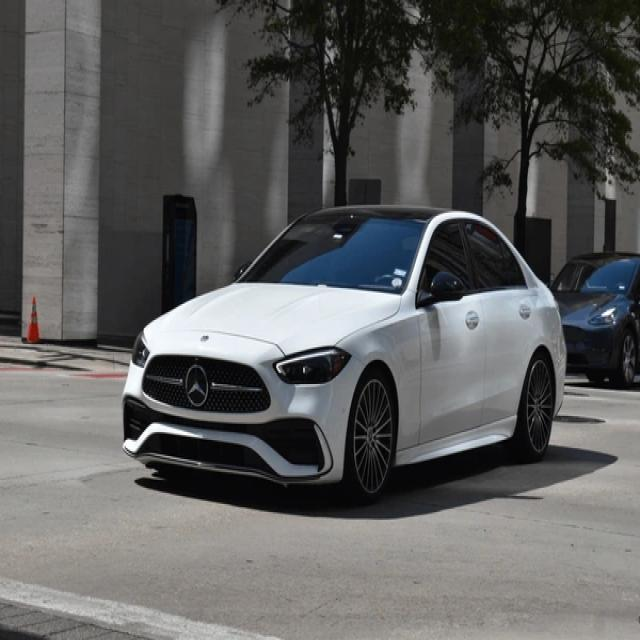mercedes: (184, 362, 213, 409)
